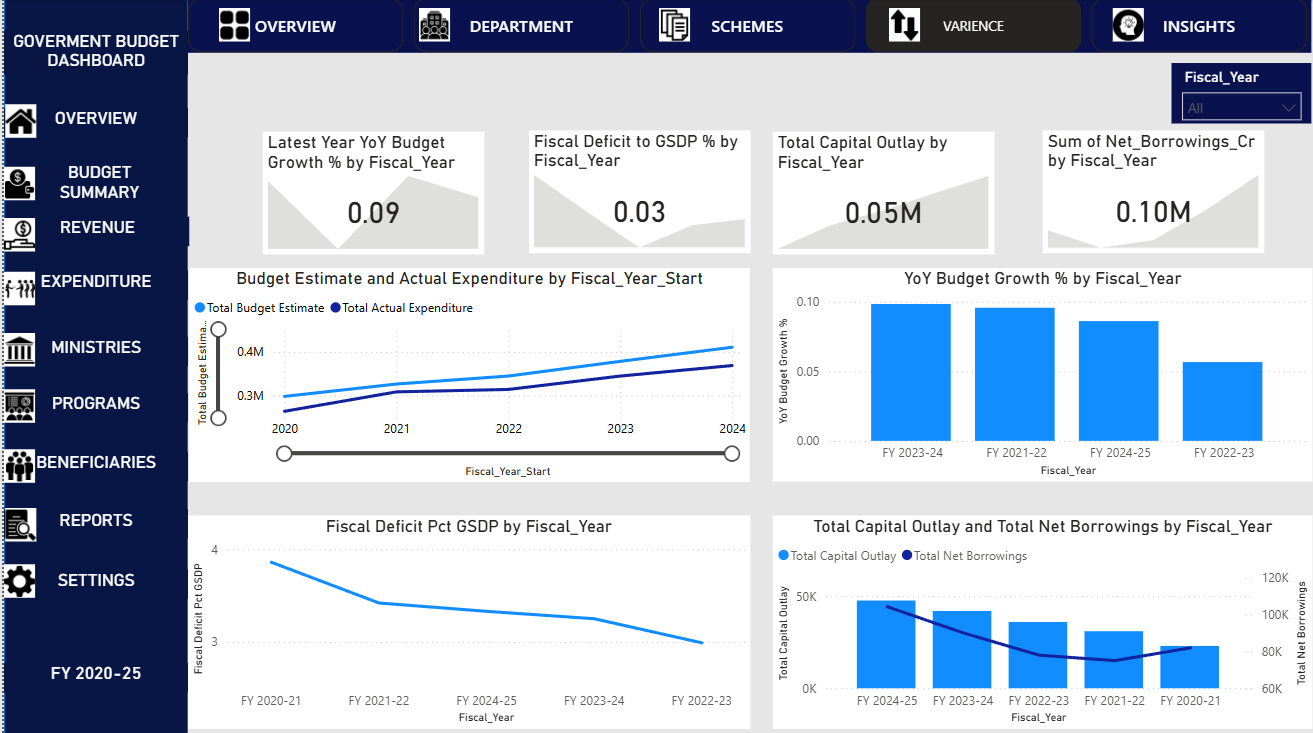

Layout of this report page (visuals, bound fields, positions):
{"tool":"powerbi","page":{"name":"VARIENCE","canvas":[1280,720],"ordinal":3},"visuals":[{"type":"slicer","fields":{"Values":["DIM_FISCAL_YEAR.Fiscal_Year"]},"box":[1142.7,63.5,137.1,59.2],"z":3},{"type":"lineChart","title":"Budget Estimate and  Actual Expenditure by Fiscal_Year_Start","fields":{"Category":["DIM_FISCAL_YEAR.Fiscal_Year_Start"],"Y":["MEASURE 1.Total Budget Estimate","MEASURE 1.Total Actual Expenditure"]},"box":[181,264.1,549.1,209],"z":6},{"type":"columnChart","fields":{"Category":["DIM_FISCAL_YEAR.Fiscal_Year"],"Y":["measure 4.YoY Budget Growth %"]},"box":[752,264.1,528.3,209.1],"z":7},{"type":"lineChart","fields":{"Category":["DIM_FISCAL_YEAR.Fiscal_Year"],"Y":["measure 4.Fiscal Deficit Pct GSDP"]},"box":[179.8,506.3,550.3,209],"z":8},{"type":"lineStackedColumnComboChart","fields":{"Category":["DIM_FISCAL_YEAR.Fiscal_Year"],"Y":["MEASURE 1.Total Capital Outlay"],"Y2":["MEASURE 1.Total Net Borrowings"]},"box":[752,506.3,528.3,209],"z":9},{"type":"shape","box":[0,0,180,720.2],"z":10},{"type":"kpi","fields":{"Indicator":["measure 4.Latest Year YoY Budget Growth %"],"TrendLine":["DIM_FISCAL_YEAR.Fiscal_Year"]},"box":[253.1,130.8,216.4,119.8],"z":11},{"type":"kpi","fields":{"Indicator":["MEASURE 1.Fiscal Deficit to GSDP %"],"TrendLine":["DIM_FISCAL_YEAR.Fiscal_Year"]},"box":[513.6,130,216.4,119.7],"z":12},{"type":"kpi","fields":{"Indicator":["MEASURE 1.Total Capital Outlay"],"TrendLine":["DIM_FISCAL_YEAR.Fiscal_Year"]},"box":[752,130.8,216.4,119.8],"z":13},{"type":"kpi","fields":{"Indicator":["Sum(TN_Budget_Overview_2020_2025.Net_Borrowings_Cr)"],"TrendLine":["DIM_FISCAL_YEAR.Fiscal_Year"]},"box":[1016.2,130,216.4,119.8],"z":14},{"type":"textbox","title":"GOVERMENT BUDGET DASHBOARD","box":[0,31.7,180.3,43.3],"z":15},{"type":"textbox","title":"OVERVIEW","box":[0,108.2,180.3,28.9],"z":16},{"type":"textbox","title":"      BUDGET SUMMARY","box":[17.3,160.1,152.9,40.4],"z":17},{"type":"textbox","title":"REVENUE","box":[1.4,213.5,180.3,28.9],"z":18},{"type":"textbox","title":"EXPENDITURE","box":[0,266.9,180.3,28.9],"z":19},{"type":"textbox","title":"MINISTRIES","box":[0,331.8,180.3,28.9],"z":20},{"type":"textbox","title":"PROGRAMS","box":[0,386.7,180.3,28.9],"z":21},{"type":"textbox","title":"BENEFICIARIES","box":[0,444.4,180.3,28.9],"z":22},{"type":"textbox","title":"REPORTS","box":[0,500.6,180.3,28.9],"z":23},{"type":"textbox","title":"SETTINGS","box":[0,558.3,180.3,28.9],"z":24},{"type":"textbox","title":"FY 2020-25   ","box":[0,650.7,180.3,28.9],"z":25},{"type":"pageNavigator","box":[180.3,0,1099.4,53.4],"z":26},{"type":"image","box":[210.6,10.1,30.3,33.2],"z":27},{"type":"image","box":[405.4,10.1,30.3,33.2],"z":28},{"type":"image","box":[640.6,10.1,30.3,33.2],"z":29},{"type":"image","box":[865.7,10.1,30.3,33.2],"z":30},{"type":"image","box":[1085,10.1,30.3,33.2],"z":31},{"type":"image","box":[1.4,103.9,30.3,33.2],"z":32},{"type":"image","box":[0,164.5,30.3,33.2],"z":33},{"type":"image","box":[0,215,30.3,33.2],"z":34},{"type":"image","box":[0,268.4,30.3,33.2],"z":35},{"type":"image","box":[0,327.5,30.3,33.2],"z":36},{"type":"image","box":[0,382.3,30.3,33.2],"z":37},{"type":"image","box":[0,441.5,30.3,33.2],"z":38},{"type":"image","box":[1.4,499.2,30.3,33.2],"z":39},{"type":"image","box":[0,554,30.3,33.2],"z":40}]}

Visuals, with their boxes in screenshot pixels (x1, y1, x2, y2), scaled from the page's 1280x720 canvas onto the 1313x733 screenshot:
slicer - DIM_FISCAL_YEAR.Fiscal_Year: {"x1": 1172, "y1": 65, "x2": 1312, "y2": 125}
"Budget Estimate and  Actual Expenditure by Fiscal_Year_Start" lineChart: {"x1": 186, "y1": 269, "x2": 749, "y2": 482}
columnChart - DIM_FISCAL_YEAR.Fiscal_Year x measure 4.YoY Budget Growth %: {"x1": 771, "y1": 269, "x2": 1312, "y2": 482}
lineChart - DIM_FISCAL_YEAR.Fiscal_Year x measure 4.Fiscal Deficit Pct GSDP: {"x1": 184, "y1": 515, "x2": 749, "y2": 728}
lineStackedColumnComboChart - DIM_FISCAL_YEAR.Fiscal_Year x MEASURE 1.Total Capital Outlay: {"x1": 771, "y1": 515, "x2": 1312, "y2": 728}
shape: {"x1": 0, "y1": 0, "x2": 185, "y2": 732}
kpi - measure 4.Latest Year YoY Budget Growth % x DIM_FISCAL_YEAR.Fiscal_Year: {"x1": 260, "y1": 133, "x2": 482, "y2": 255}
kpi - MEASURE 1.Fiscal Deficit to GSDP % x DIM_FISCAL_YEAR.Fiscal_Year: {"x1": 527, "y1": 132, "x2": 749, "y2": 254}
kpi - MEASURE 1.Total Capital Outlay x DIM_FISCAL_YEAR.Fiscal_Year: {"x1": 771, "y1": 133, "x2": 993, "y2": 255}
kpi - Sum(TN_Budget_Overview_2020_2025.Net_Borrowings_Cr) x DIM_FISCAL_YEAR.Fiscal_Year: {"x1": 1042, "y1": 132, "x2": 1264, "y2": 254}
"GOVERMENT BUDGET DASHBOARD" textbox: {"x1": 0, "y1": 32, "x2": 185, "y2": 76}
"OVERVIEW" textbox: {"x1": 0, "y1": 110, "x2": 185, "y2": 140}
"      BUDGET SUMMARY" textbox: {"x1": 18, "y1": 163, "x2": 175, "y2": 204}
"REVENUE" textbox: {"x1": 1, "y1": 217, "x2": 186, "y2": 247}
"EXPENDITURE" textbox: {"x1": 0, "y1": 272, "x2": 185, "y2": 301}
"MINISTRIES" textbox: {"x1": 0, "y1": 338, "x2": 185, "y2": 367}
"PROGRAMS" textbox: {"x1": 0, "y1": 394, "x2": 185, "y2": 423}
"BENEFICIARIES" textbox: {"x1": 0, "y1": 452, "x2": 185, "y2": 482}
"REPORTS" textbox: {"x1": 0, "y1": 510, "x2": 185, "y2": 539}
"SETTINGS" textbox: {"x1": 0, "y1": 568, "x2": 185, "y2": 598}
"FY 2020-25   " textbox: {"x1": 0, "y1": 662, "x2": 185, "y2": 692}
pageNavigator: {"x1": 185, "y1": 0, "x2": 1312, "y2": 54}
image: {"x1": 216, "y1": 10, "x2": 247, "y2": 44}
image: {"x1": 416, "y1": 10, "x2": 447, "y2": 44}
image: {"x1": 657, "y1": 10, "x2": 688, "y2": 44}
image: {"x1": 888, "y1": 10, "x2": 919, "y2": 44}
image: {"x1": 1113, "y1": 10, "x2": 1144, "y2": 44}
image: {"x1": 1, "y1": 106, "x2": 33, "y2": 140}
image: {"x1": 0, "y1": 167, "x2": 31, "y2": 201}
image: {"x1": 0, "y1": 219, "x2": 31, "y2": 253}
image: {"x1": 0, "y1": 273, "x2": 31, "y2": 307}
image: {"x1": 0, "y1": 333, "x2": 31, "y2": 367}
image: {"x1": 0, "y1": 389, "x2": 31, "y2": 423}
image: {"x1": 0, "y1": 449, "x2": 31, "y2": 483}
image: {"x1": 1, "y1": 508, "x2": 33, "y2": 542}
image: {"x1": 0, "y1": 564, "x2": 31, "y2": 598}
